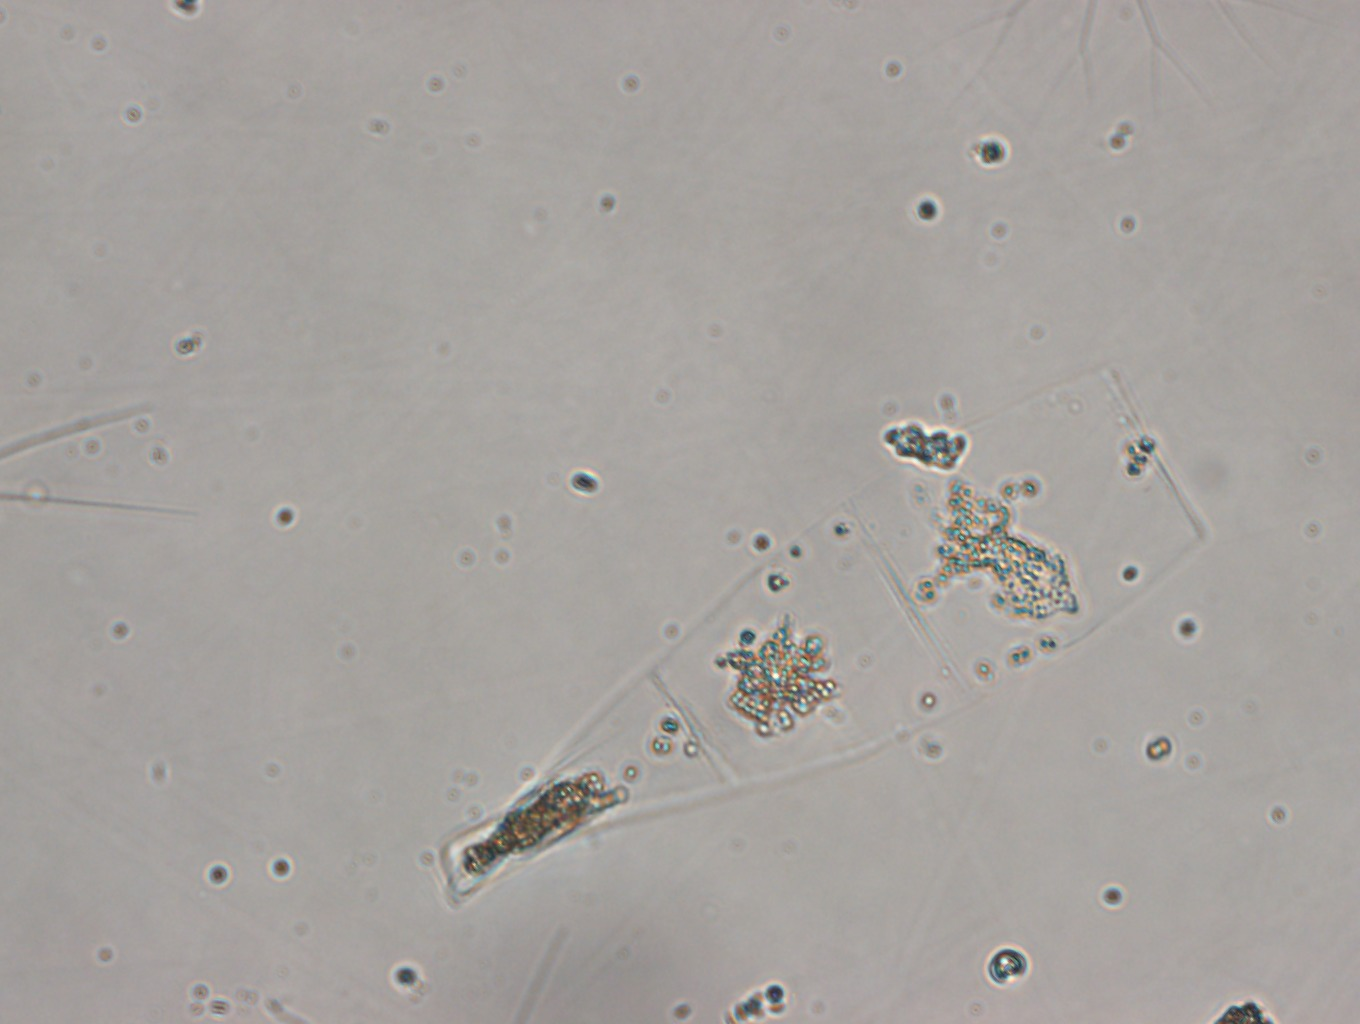helicotheca: (429, 356, 1207, 908)
